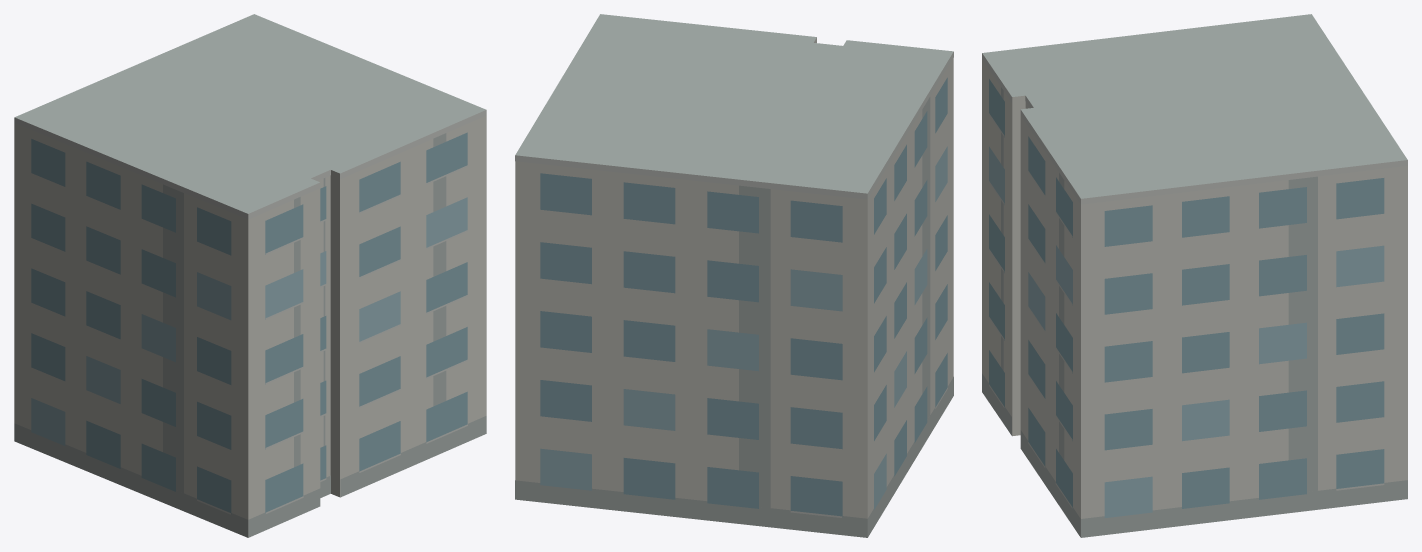
The model's file is survey-upis-33034082.glb.
The picture shows the model from 3 angles, left to right: view 1: azimuth 30°, elevation 25°; view 2: azimuth 150°, elevation 25°; view 3: azimuth 270°, elevation 25°; orthographic projection. The views are drawn at different scales.
Parts seen in each view (by area): view 1: survey-upis-33034082.tmp; view 2: survey-upis-33034082.tmp; view 3: survey-upis-33034082.tmp.
Part boxes in pixels (box(x1,y1,x2,y2)): survey-upis-33034082.tmp: box(14, 14, 486, 537); survey-upis-33034082.tmp: box(515, 14, 953, 537); survey-upis-33034082.tmp: box(982, 14, 1407, 537).
Bounding box in the file's own units: 16.38 × 14 × 15.94.
